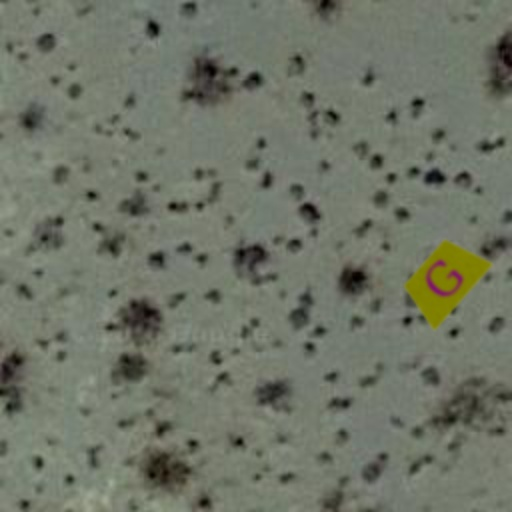trapezoid: (380, 216, 508, 344)
